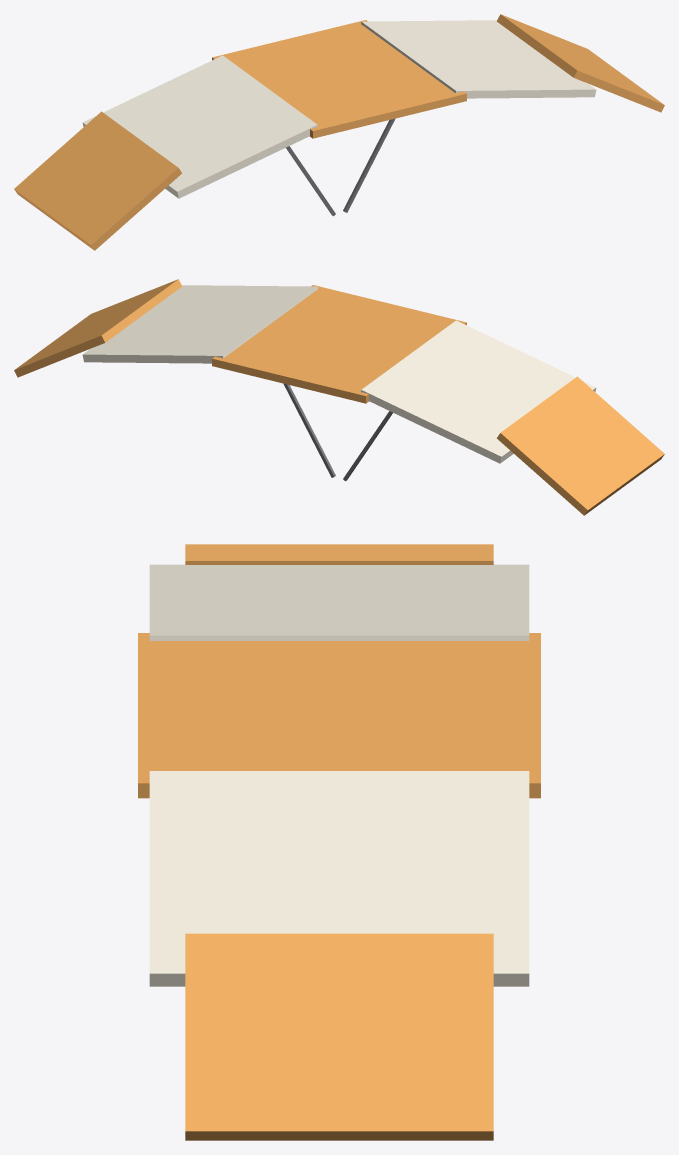
File: glider.glb
3 renders of one model, top to bottom at view 1: azimuth 30°, elevation 25°; view 2: azimuth 150°, elevation 25°; view 3: azimuth 270°, elevation 25°, orthographic. The views are drawn at different scales.
Parts seen in each view (by area): view 1: Glider; view 2: Glider; view 3: Glider.
Boxes of the visible parts, left/top/right/bottom form: Glider: left=14, top=14, right=664, bottom=250; Glider: left=14, top=279, right=664, bottom=515; Glider: left=138, top=544, right=540, bottom=1140.
Bounding box in the file's own units: 5.59 × 1.31 × 1.7.
